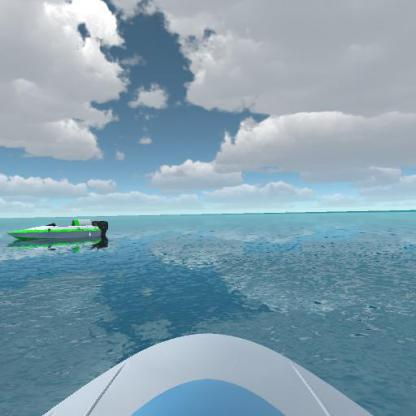usv0: (9, 212, 114, 258)
